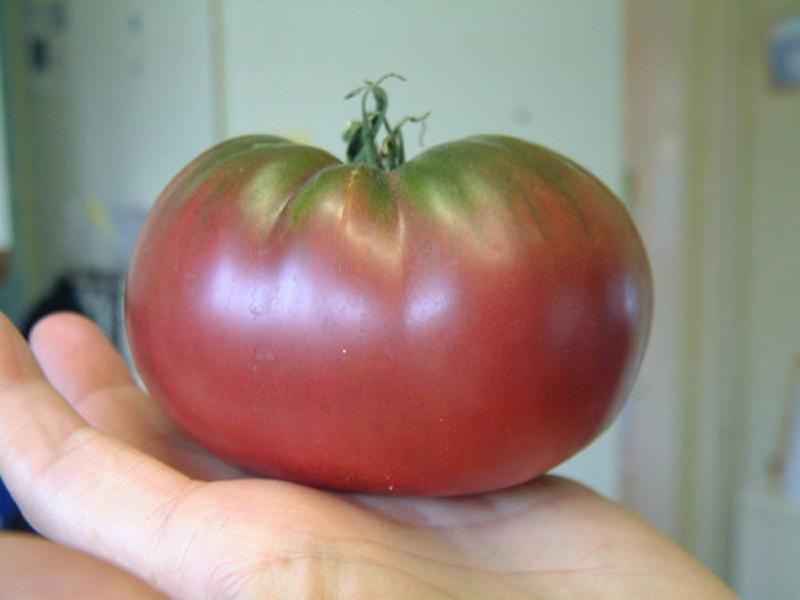Tomato: (125, 133, 653, 496)
